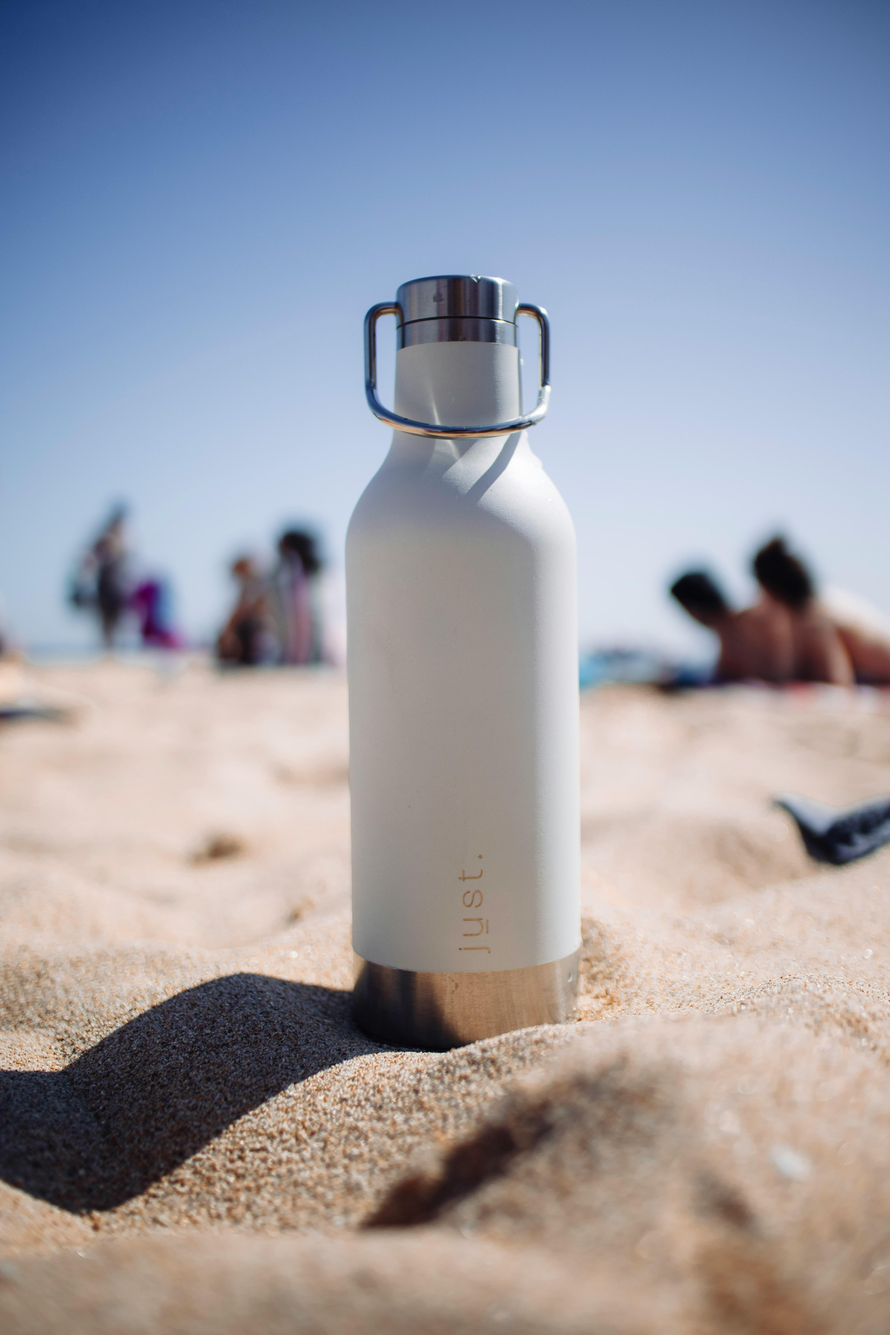Bottle-Detection: (271, 218, 647, 1097)
